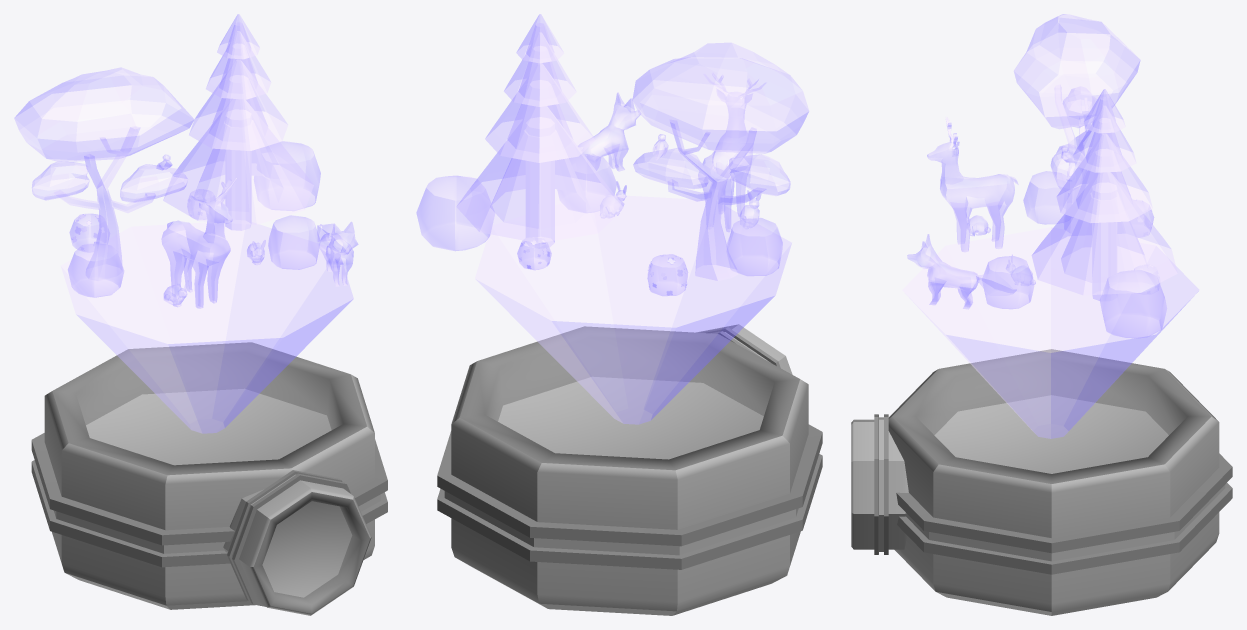
The model's file is forest_hologram.glb.
3 views of the same model, side by side, from view 1: azimuth 30°, elevation 25°; view 2: azimuth 150°, elevation 25°; view 3: azimuth 270°, elevation 25° (orthographic). The views are drawn at different scales.
Visible parts, largest first — view 1: pCylinder4, pCylinder6, oak:pCylinder2, pine:pCylinder2, pCylinder5, deer:pCylinder1, bush_geo3, bush_geo2, bush_geo1, pCylinder1, bush_geo; view 2: pCylinder4, pCylinder6, oak:pCylinder2, pine:pCylinder2, bush_geo3, deer:pCylinder1, bush_geo2, pCylinder1, bush_geo1, bush_geo, pCylinder5, bushes:bush_geo (+1 smaller); view 3: pCylinder4, pCylinder6, pine:pCylinder2, oak:pCylinder2, pCylinder5, deer:pCylinder1, bush_geo3, pCylinder1, bush_geo1, bush_geo2, bush_geo.
Part boxes in pixels (<box>): pCylinder4: <box>31,342,387,609</box>; pCylinder6: <box>61,222,353,433</box>; oak:pCylinder2: <box>14,67,194,280</box>; pine:pCylinder2: <box>163,14,313,230</box>; pCylinder5: <box>223,470,371,615</box>; deer:pCylinder1: <box>161,178,236,308</box>; bush_geo3: <box>254,141,320,210</box>; bush_geo2: <box>68,243,123,297</box>; bush_geo1: <box>268,215,319,269</box>; pCylinder1: <box>317,221,358,286</box>; bush_geo: <box>69,214,109,252</box>; pCylinder4: <box>437,326,822,615</box>; pCylinder6: <box>475,195,791,424</box>; oak:pCylinder2: <box>632,43,808,280</box>; pine:pCylinder2: <box>457,14,623,248</box>; bush_geo3: <box>416,176,494,250</box>; deer:pCylinder1: <box>698,73,766,231</box>; bush_geo2: <box>726,217,782,275</box>; pCylinder1: <box>578,92,640,171</box>; bush_geo1: <box>557,154,616,212</box>; bush_geo: <box>647,254,687,295</box>; pCylinder5: <box>696,324,792,374</box>; bushes:bush_geo: <box>517,237,551,269</box>; pCylinder4: <box>888,349,1232,615</box>; pCylinder6: <box>902,227,1198,438</box>; pine:pCylinder2: <box>1032,89,1177,301</box>; oak:pCylinder2: <box>1014,14,1140,233</box>; pCylinder5: <box>851,414,908,554</box>; deer:pCylinder1: <box>927,117,1018,251</box>; bush_geo3: <box>1100,270,1166,338</box>; pCylinder1: <box>907,234,1016,309</box>; bush_geo1: <box>982,256,1033,308</box>; bush_geo2: <box>1023,171,1067,224</box>; bush_geo: <box>1131,200,1153,237</box>.
Size of the model in its own units: 0.1548 by 0.2251 by 0.1585.
3 materials, 2 textured.
